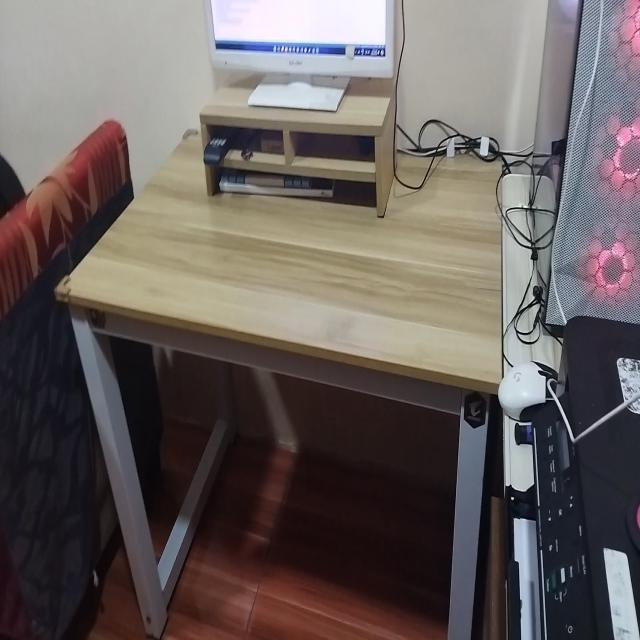table: (71, 110, 502, 640)
